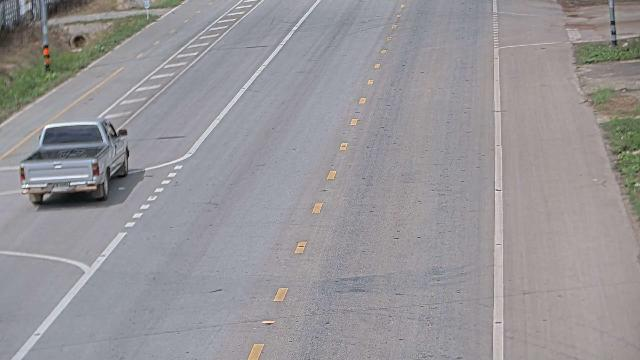pickup-truck: (18, 118, 130, 205)
